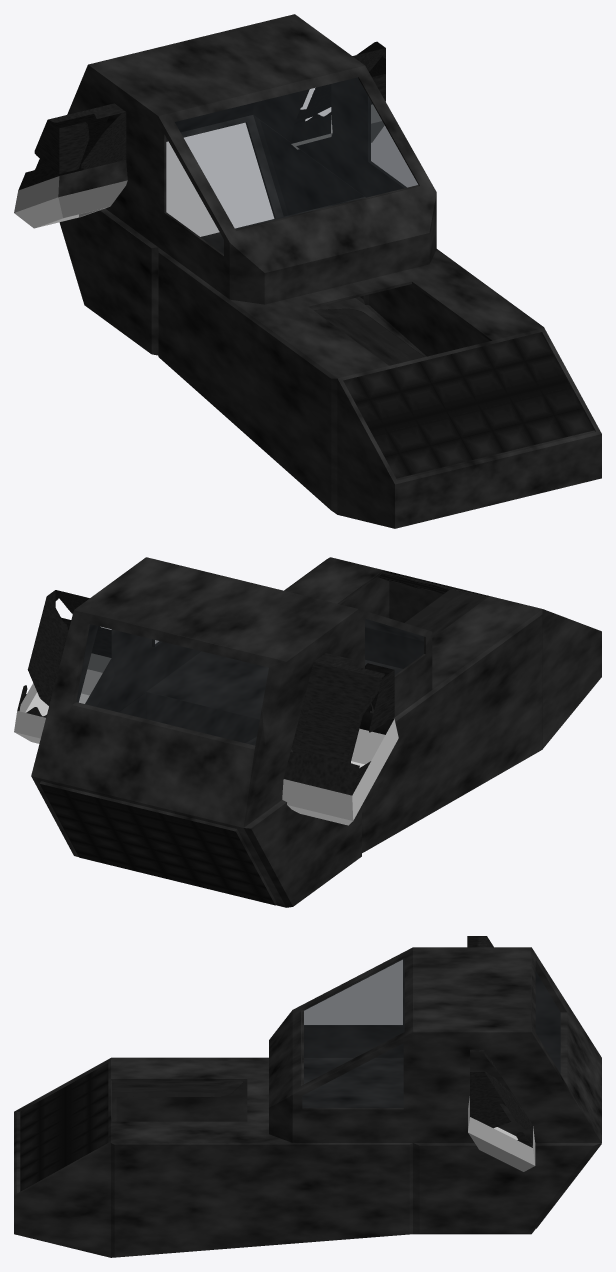
Rendered from Reworked CyberCar.fbx.
3 views of the same model, one above another, from view 1: azimuth 30°, elevation 25°; view 2: azimuth 150°, elevation 25°; view 3: azimuth 270°, elevation 25° (orthographic). The views are drawn at different scales.
Parts seen in each view (by area): view 1: Car, Windows, Doors, ThrusterTop, Thrusts, Front; view 2: Car, Windows, ThrusterTop, Doors, Thrusts, Front; view 3: Car, Windows, Doors, ThrusterTop, Front, Thrusts.
Boxes of the visible parts, left/top/right/bottom form: Car: left=58, top=14, right=601, bottom=528; Windows: left=166, top=77, right=417, bottom=253; Doors: left=343, top=332, right=593, bottom=478; ThrusterTop: left=18, top=41, right=385, bottom=190; Thrusts: left=14, top=101, right=385, bottom=228; Front: left=314, top=308, right=424, bottom=365; Car: left=31, top=557, right=601, bottom=907; Windows: left=76, top=618, right=423, bottom=745; ThrusterTop: left=17, top=590, right=394, bottom=795; Doors: left=40, top=572, right=449, bottom=905; Thrusts: left=14, top=653, right=398, bottom=825; Front: left=404, top=589, right=486, bottom=637; Car: left=14, top=947, right=601, bottom=1257; Windows: left=302, top=958, right=560, bottom=1107; Doors: left=20, top=1063, right=108, bottom=1191; ThrusterTop: left=467, top=936, right=532, bottom=1147; Front: left=111, top=1081, right=243, bottom=1096; Thrusts: left=468, top=1096, right=535, bottom=1171.
Size of the model in its own units: 643 by 494 by 1168.
